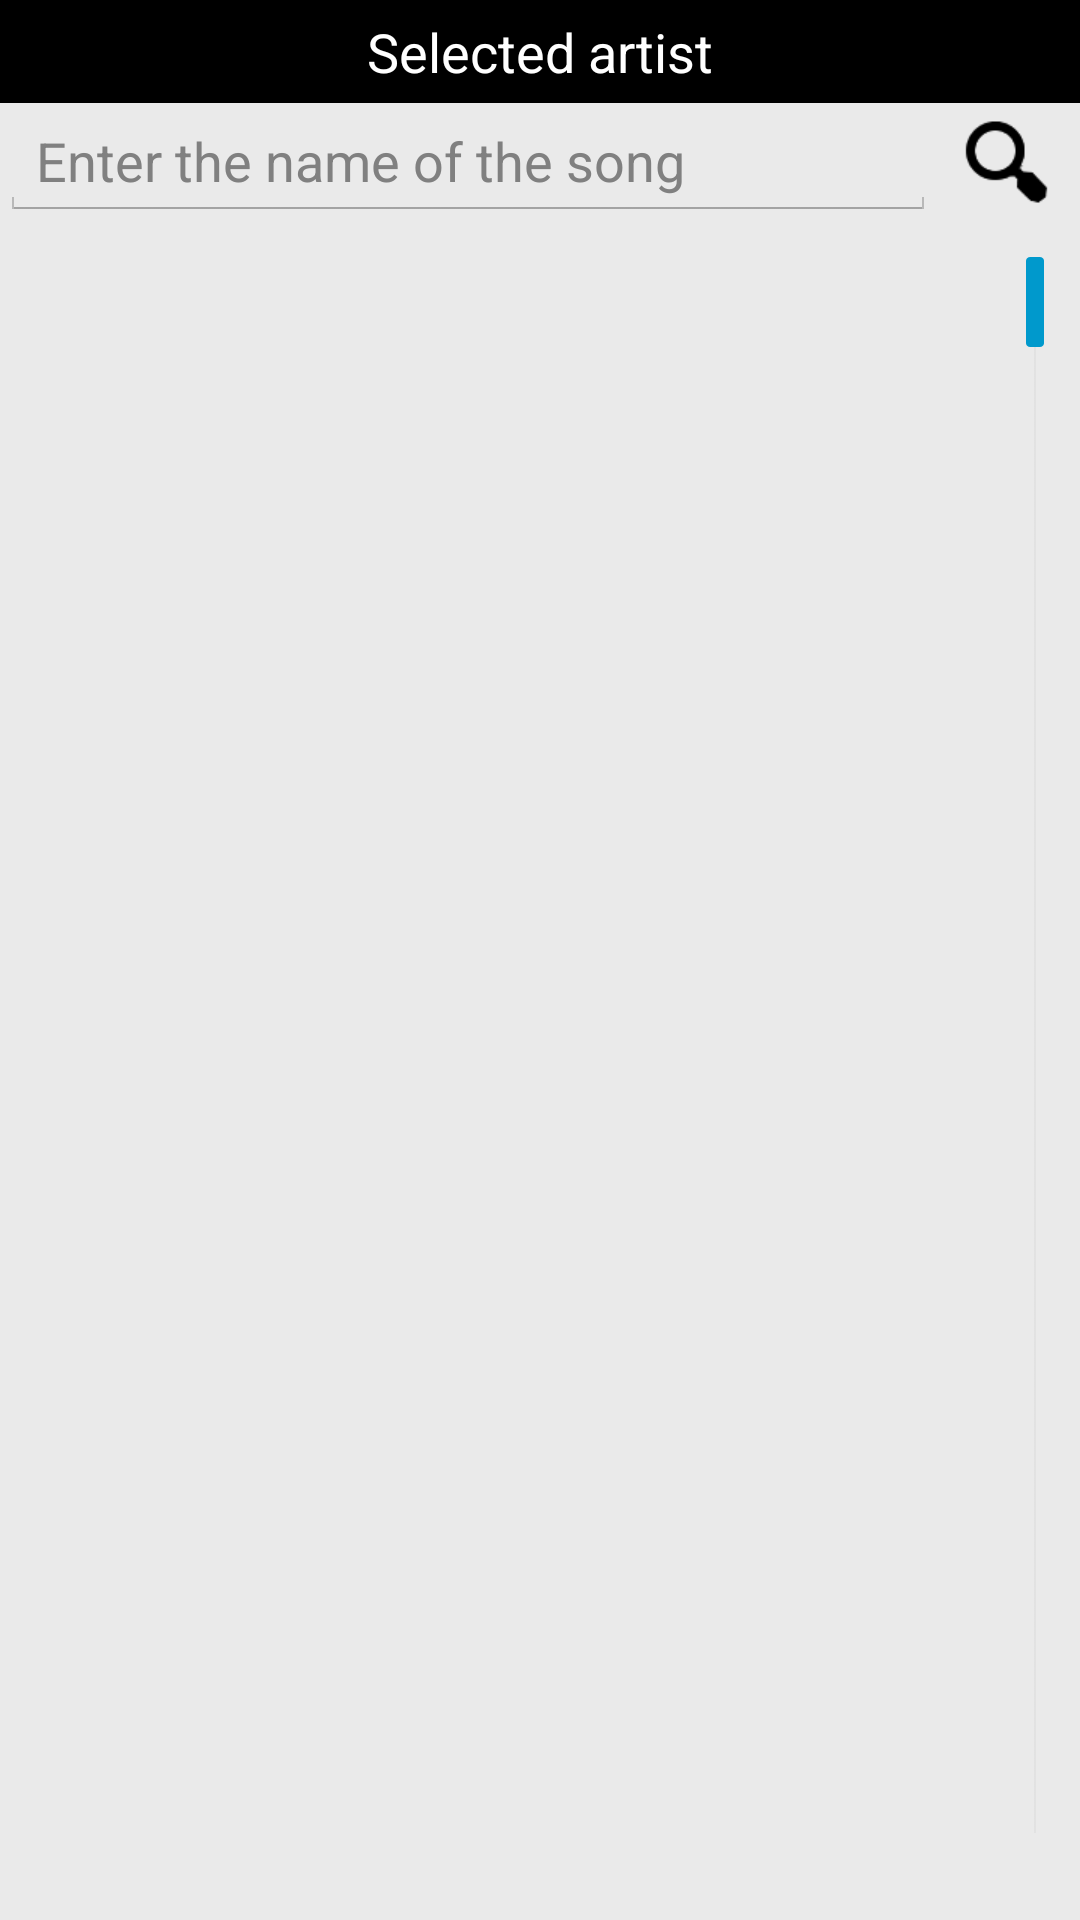

Icons on this 1080×1920 Android screen, each with its box as bbox=(x1, y1, x2, y2):
Search button: bbox=(965, 121, 1048, 203)
